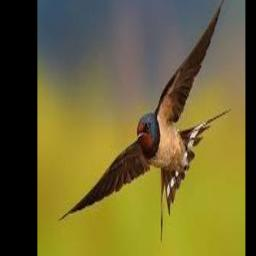Swallow: (59, 0, 231, 240)
